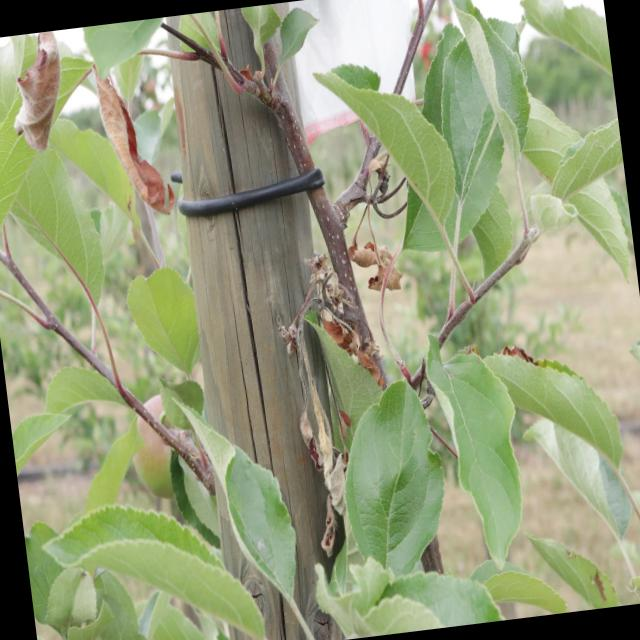-FireBlight-: (274, 253, 392, 397), (92, 63, 176, 220), (332, 190, 418, 290), (11, 30, 66, 160)
